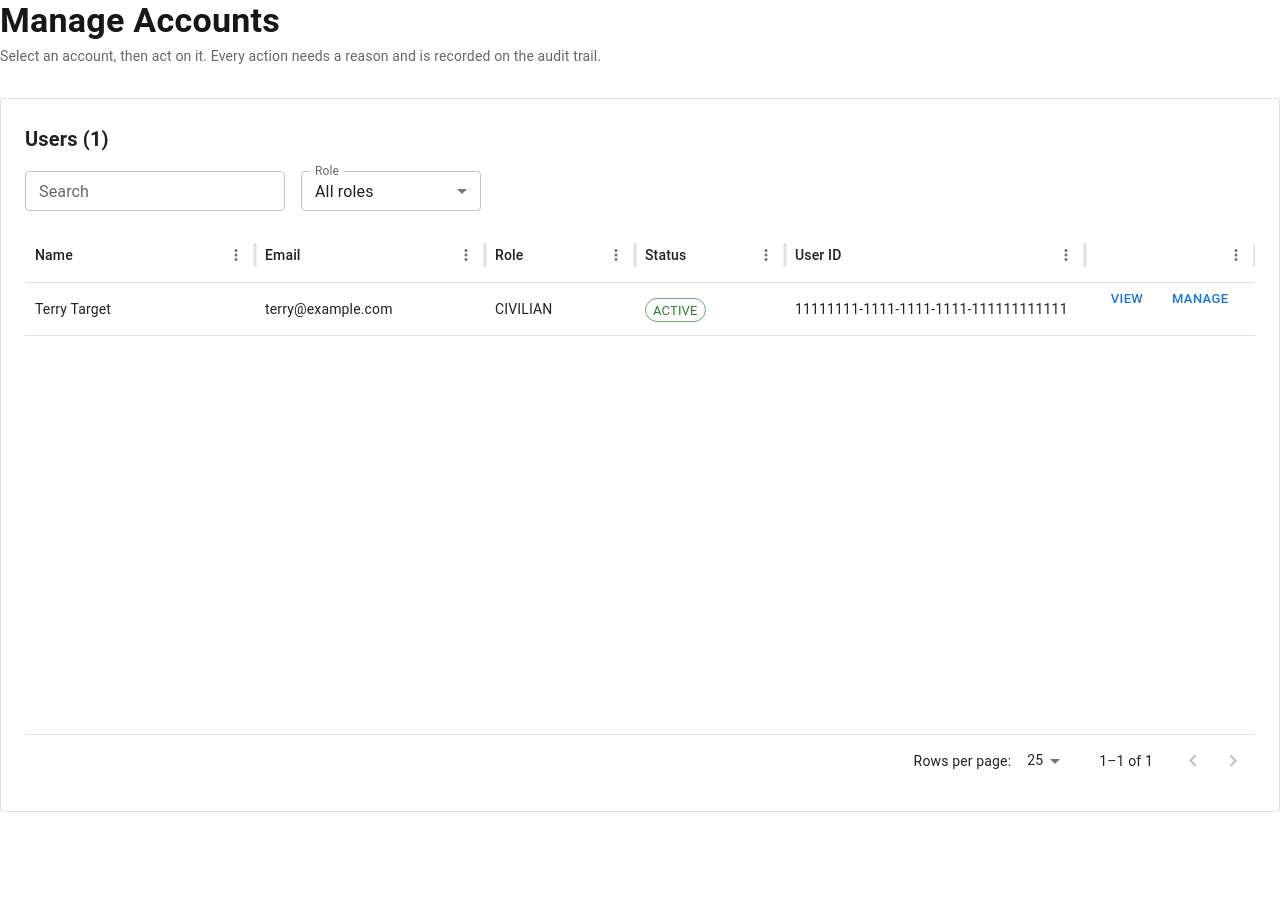
Test: SecurityAccountPage › opens the reveal dialog when View is clicked, with the account's masked name in the title
Click the button "View".
click(1127, 299)  # box [1095,284,1159,315]
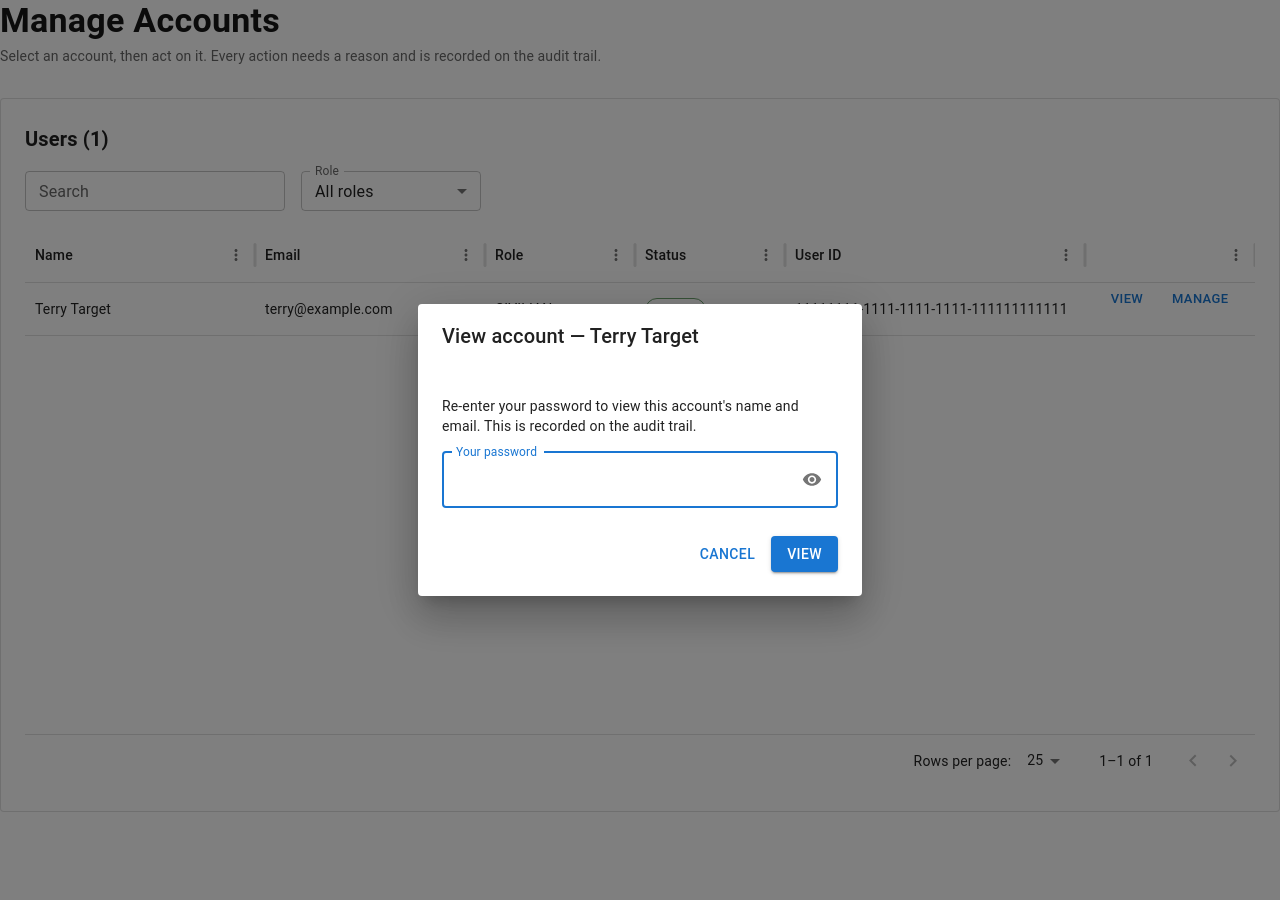
Expected: the heading "View account — Terry Target" is shown, [442,324,699,348]
